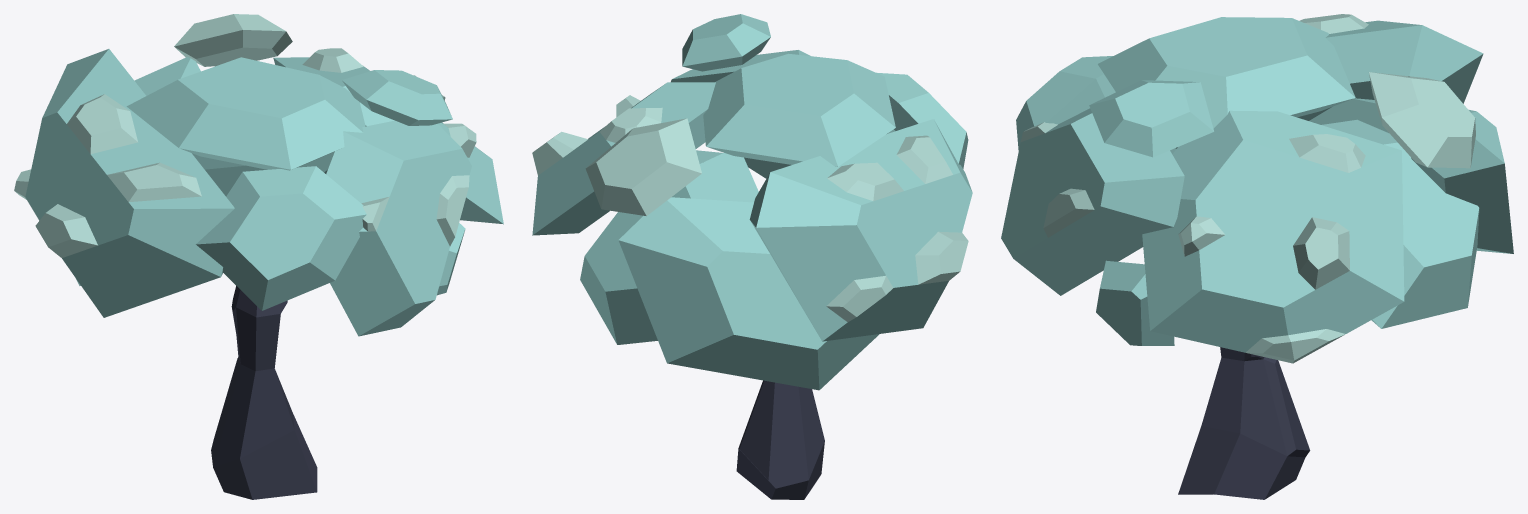
The model's file is buisson_p03.fbx.
3 views of the same model, side by side, from view 1: azimuth 30°, elevation 25°; view 2: azimuth 150°, elevation 25°; view 3: azimuth 270°, elevation 25° (orthographic). The views are drawn at different scales.
Parts seen in each view (by area): view 1: Buisson_phase3; view 2: Buisson_phase3; view 3: Buisson_phase3.
Part boxes in pixels (x1,y1,x2,y2): Buisson_phase3: (14,14,503,499); Buisson_phase3: (532,14,972,499); Buisson_phase3: (1001,14,1513,499).
Size of the model in its own units: 200 by 189 by 192.
